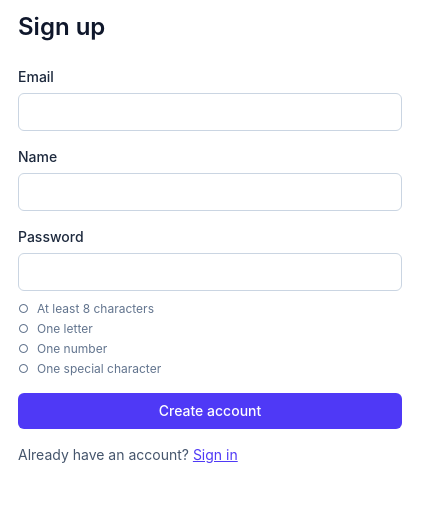
Test case: SignUpPage › maps EMAIL_ALREADY_EXISTS onto the email field
Type "ada@example.com" into the field labelled "Email".
click(210, 112); type("ada@example.com")  # box [18,93,402,131]
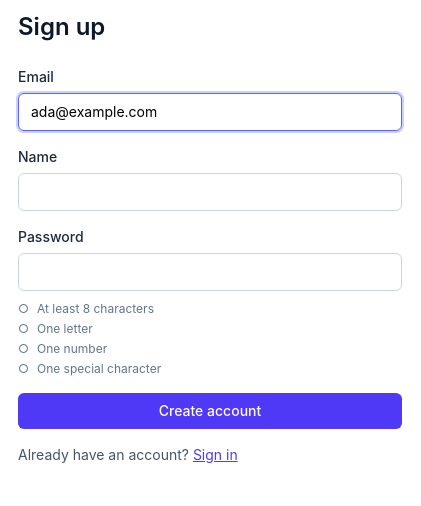
Type "Ada Lovelace" into the field labelled "Name".
click(210, 192); type("Ada Lovelace")  # box [18,173,402,211]
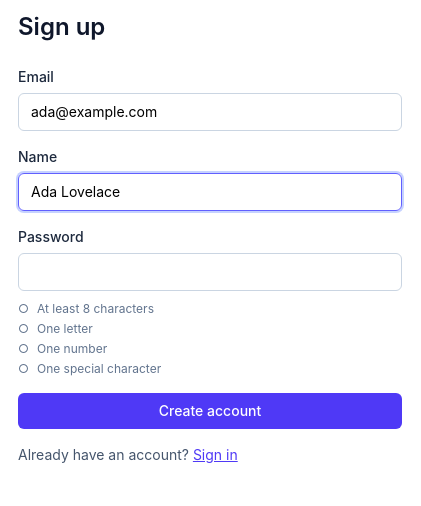
Type "sup3r!secret" into the password field labelled "Password".
click(210, 272); type("sup3r!secret")  # box [18,253,402,291]
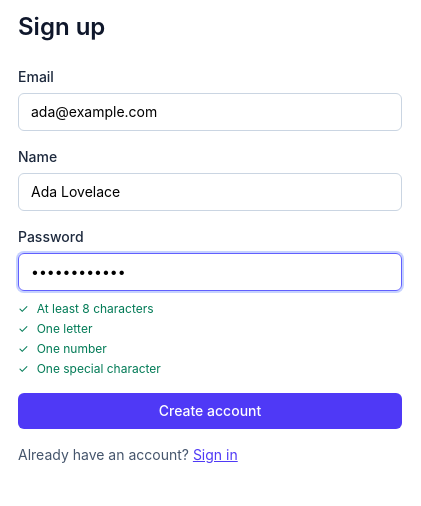
Click the button "Create account".
click(210, 411)  # box [18,393,402,429]
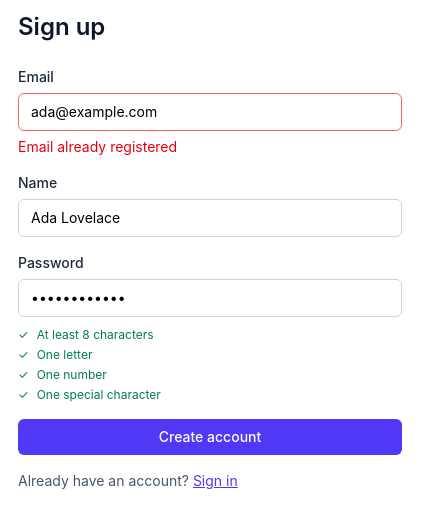
expect the text "Email already registered" is shown: met, box [18,138,177,155]
